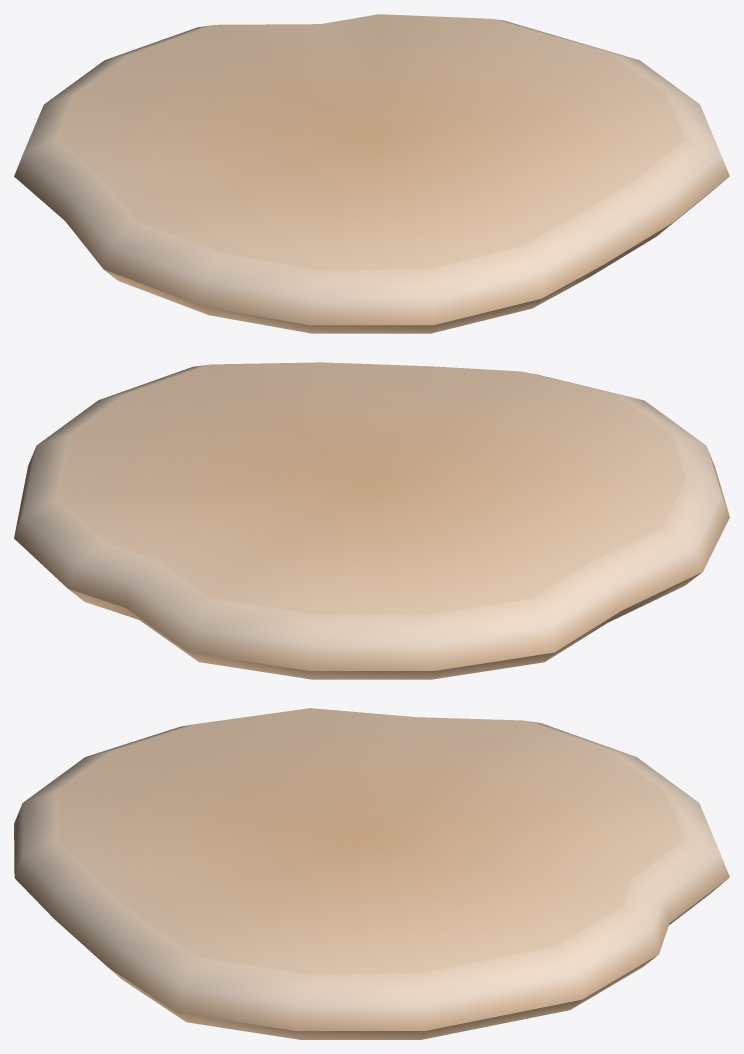
The model's file is food_ingredient_dough_base.obj.
3 views of the same model, one above another, from view 1: azimuth 30°, elevation 25°; view 2: azimuth 150°, elevation 25°; view 3: azimuth 270°, elevation 25° (orthographic). The views are drawn at different scales.
Visible parts, largest first — view 1: food_ingredient_dough_base_Cylinder.925; view 2: food_ingredient_dough_base_Cylinder.925; view 3: food_ingredient_dough_base_Cylinder.925.
Part boxes in pixels (<box>): food_ingredient_dough_base_Cylinder.925: <box>14,14,729,333</box>; food_ingredient_dough_base_Cylinder.925: <box>14,362,729,679</box>; food_ingredient_dough_base_Cylinder.925: <box>14,708,729,1039</box>.
Bounding box in the file's own units: 1.75 × 0.1484 × 1.75.
Materials: 1 (1 with a texture image).
